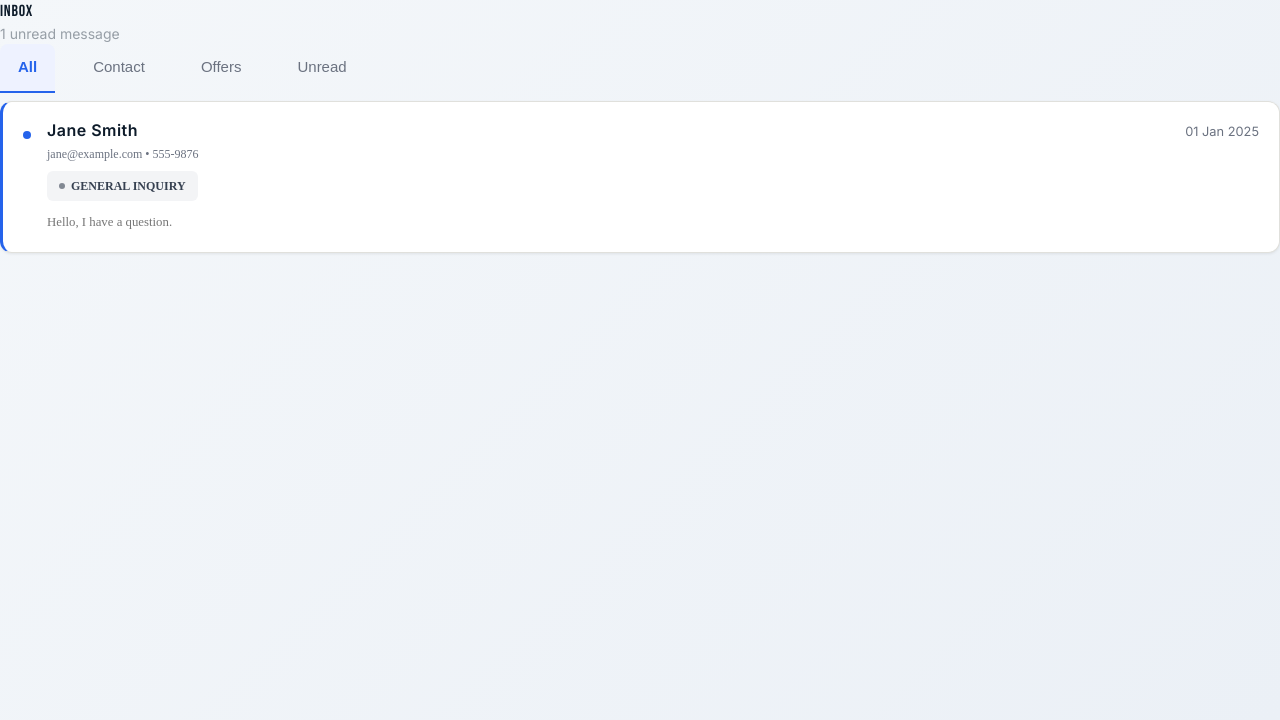
Scenario: AdminMessages - Backend Integration › Delete › removes message from list after successful delete
Click the text "Jane Smith".
click(92, 130)  # box [47,122,138,138]
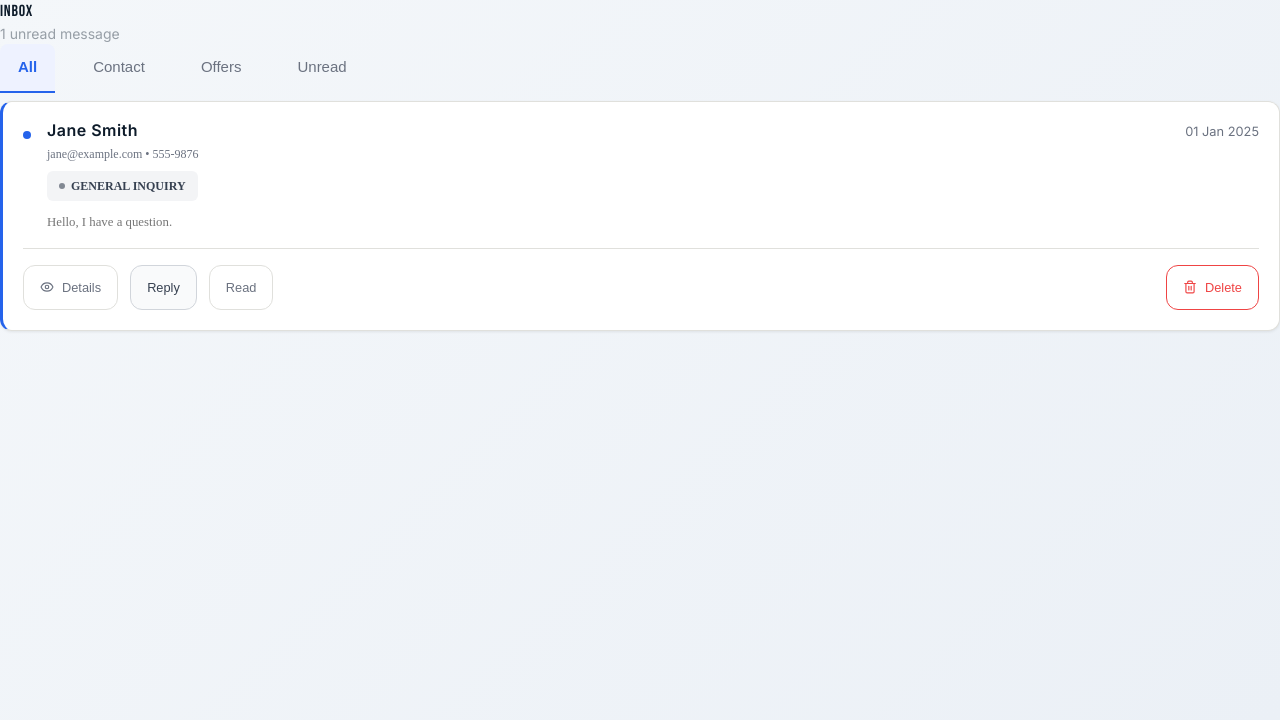
Result: the text "Delete" is shown at [1205,278,1242,297]
Click the button "Delete".
click(1212, 288)  # box [1166,265,1259,310]
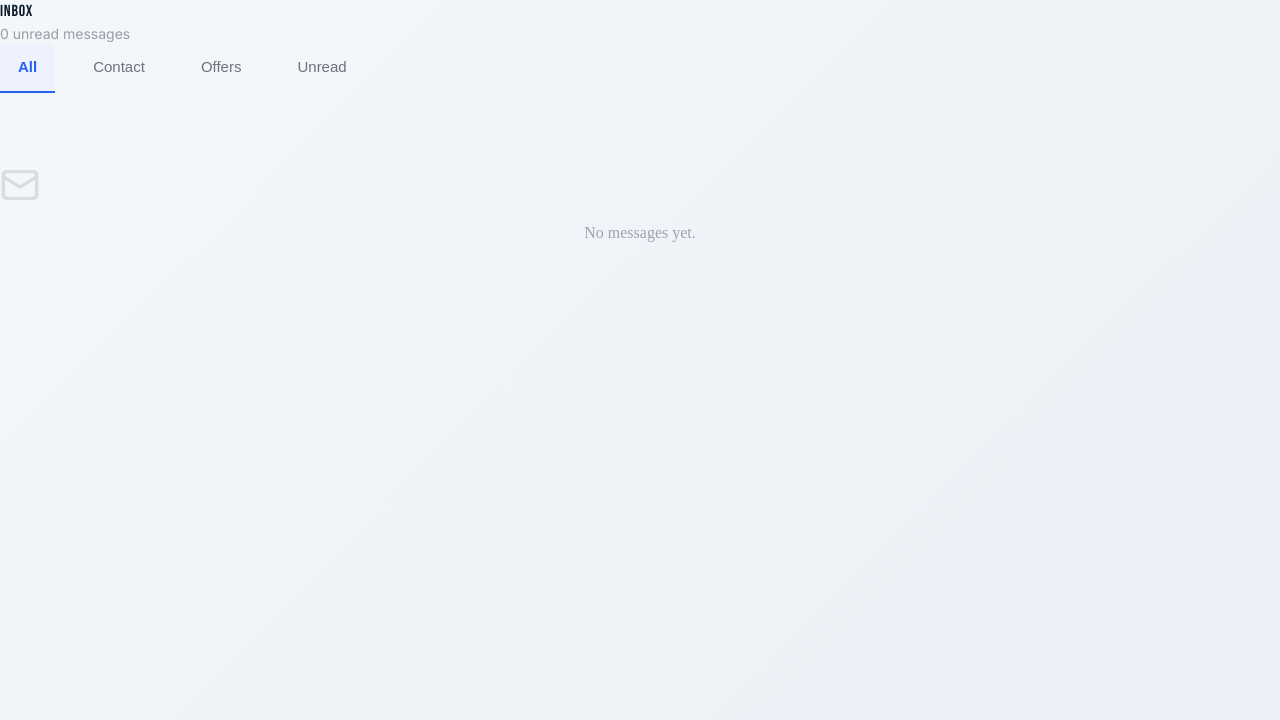
Result: the text "Jane Smith" is gone
